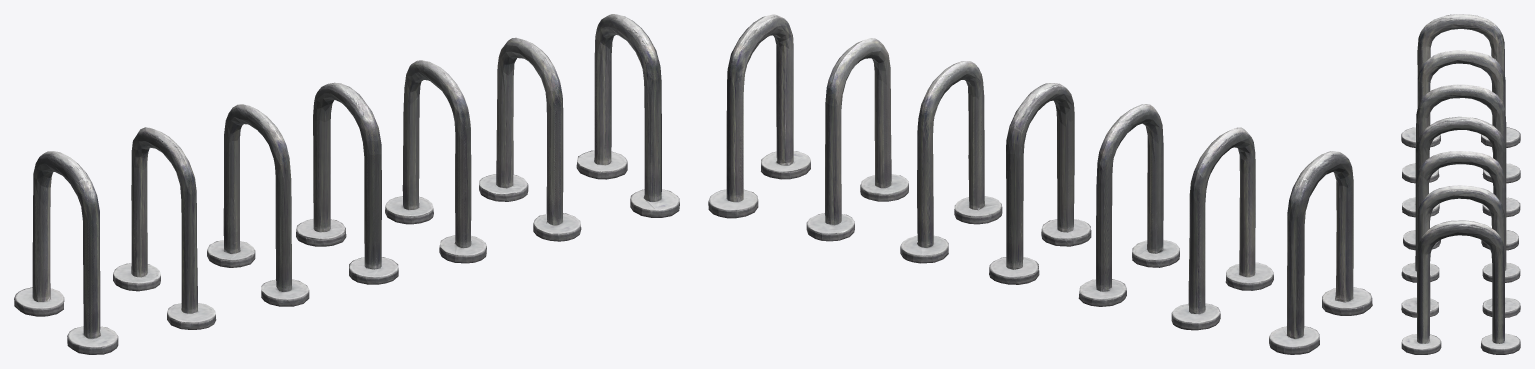
File: cycle_stand.glb
3 renders of one model, left to right at view 1: azimuth 30°, elevation 25°; view 2: azimuth 150°, elevation 25°; view 3: azimuth 270°, elevation 25°, orthographic. The views are drawn at different scales.
Visible parts, largest first — view 1: world; view 2: world; view 3: world.
Boxes of the visible parts, bbox=[...] form: world: bbox=[14, 14, 679, 354]; world: bbox=[708, 14, 1372, 354]; world: bbox=[1401, 14, 1520, 354].
Size of the model in its own units: 1 by 0.2659 by 0.2276.
1 material, 1 textured.
